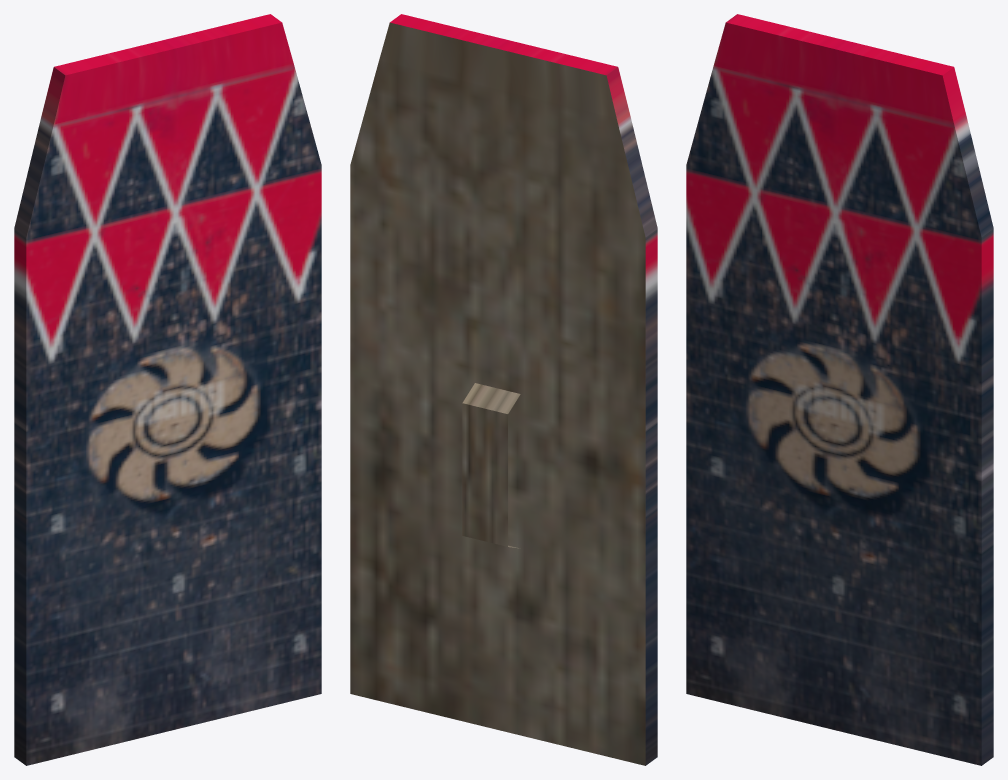
Rendered from yayoi_s_tedate_b.dae.
3 renders of one model, left to right at view 1: azimuth 30°, elevation 25°; view 2: azimuth 150°, elevation 25°; view 3: azimuth 330°, elevation 25°, orthographic.
Visible parts, largest first — view 1: shield_tedate_b; view 2: shield_tedate_b; view 3: shield_tedate_b.
Part boxes in pixels (x1,y1,x2,y2): shield_tedate_b: [14, 14, 321, 765]; shield_tedate_b: [350, 14, 657, 765]; shield_tedate_b: [686, 14, 993, 765].
Bounding box in the file's own units: 1.04 × 0.1517 × 2.29.
